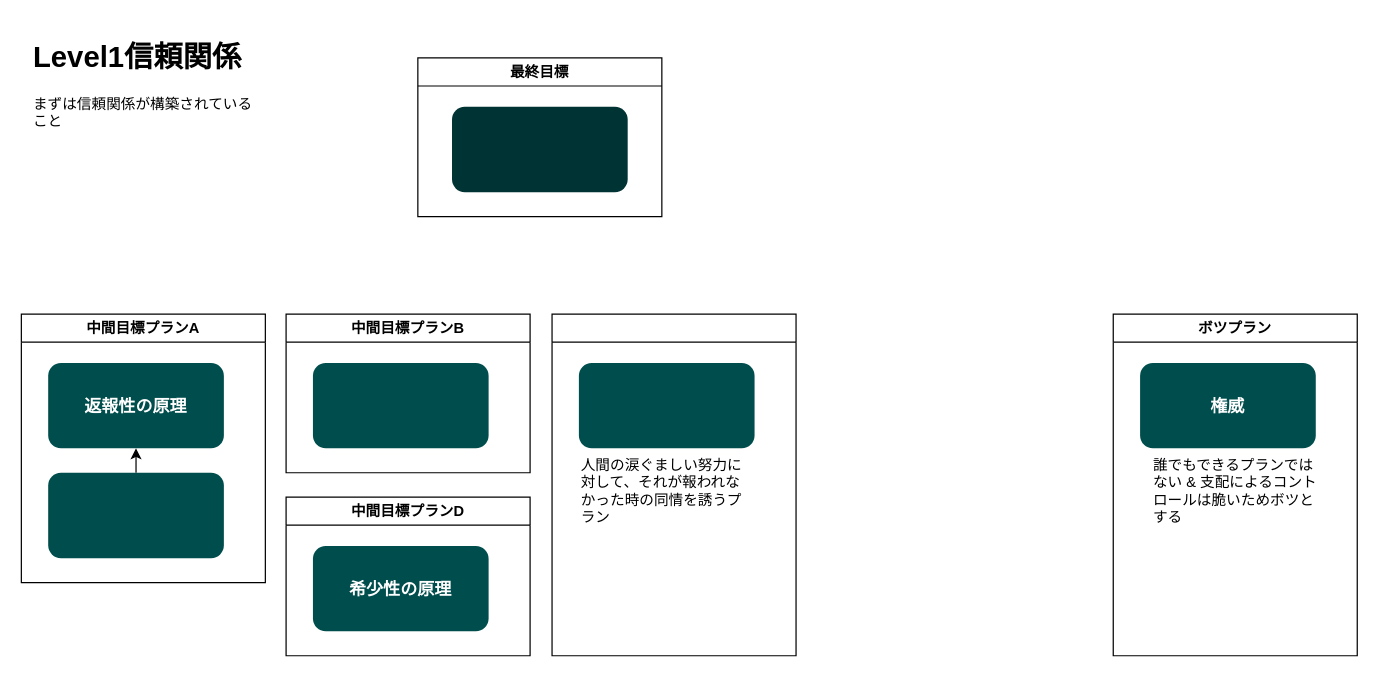
The diagram is 1379 pixels wide and 677 high, and some of its shapes have lost their labels. Here are the shapes that lost their labels. From the top down, the centre of each, then its label:
(539,149): コントロールする or 動いてもらう
(400,405): 社会的証明の原理 多数の原理
(666,405): 努力
(135,515): 好意
